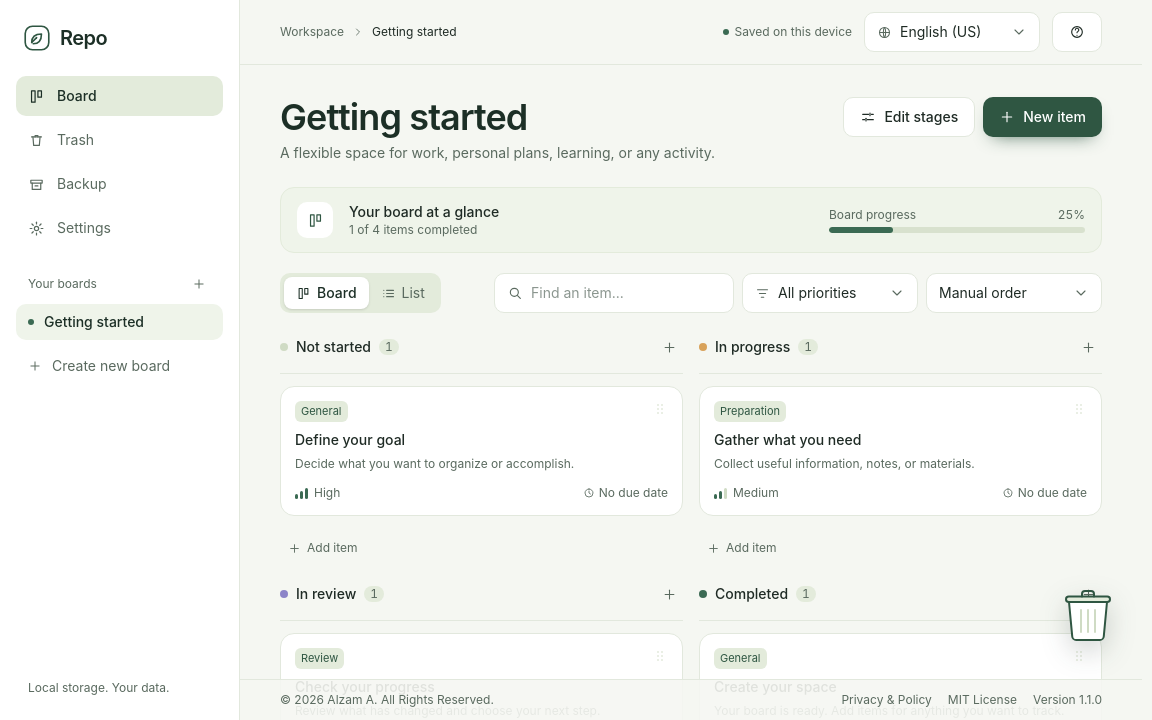
it: stages › adds a stage and deletes one, moving its items to another stage
The image size is (1152, 720).
Expected: the heading "Getting started" is shown, [280, 95, 527, 139]
Step 1. Click the button "Edit stages" → point(909, 117), box [843, 97, 975, 137]
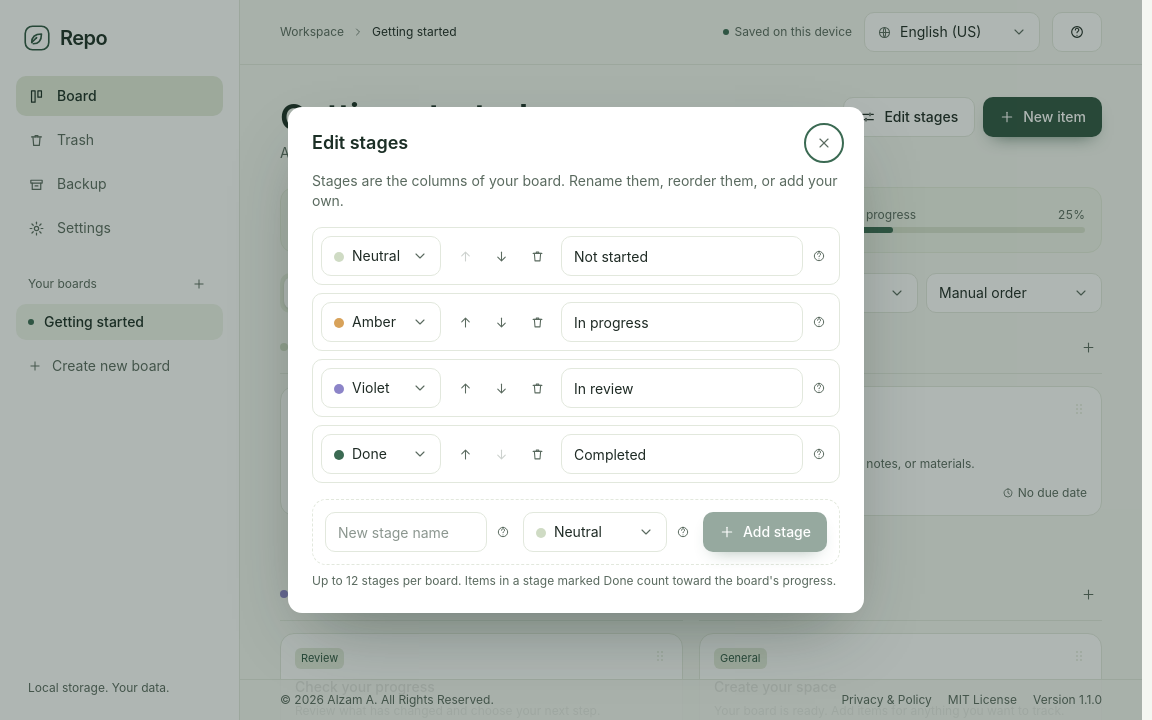
Step 2. Type "Blocked" into the field with placeholder "New stage name" → point(406, 532), box [325, 512, 487, 552]
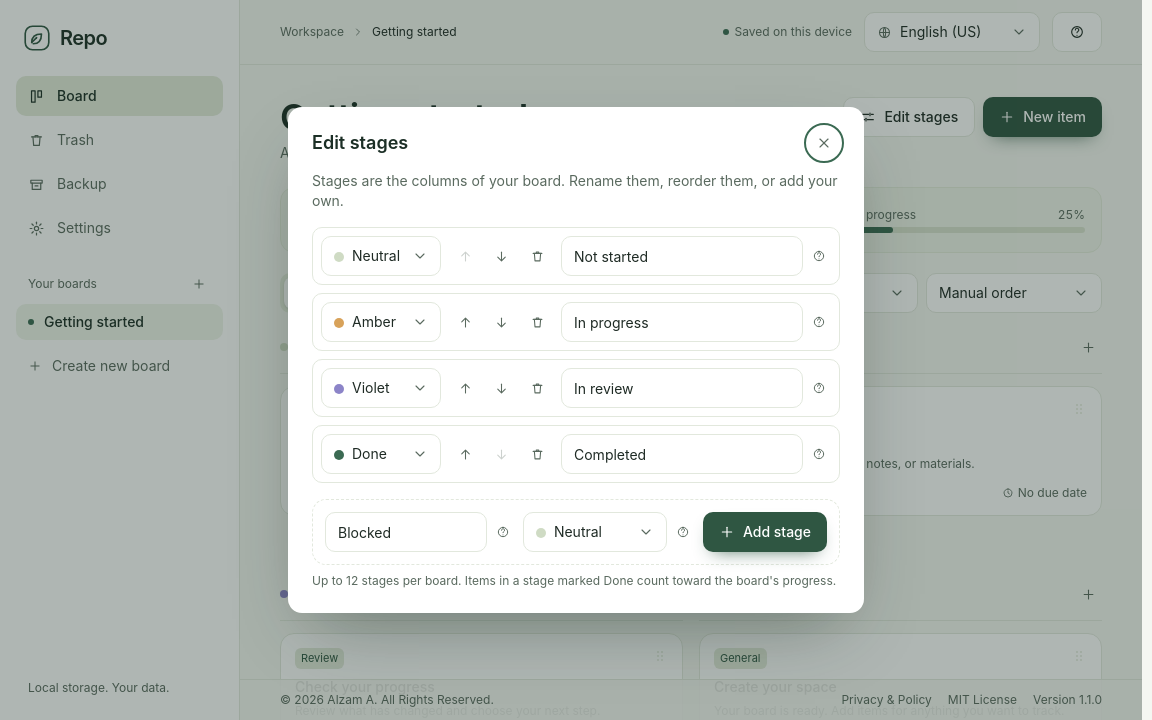
Step 3. Click the button "Add stage" → point(765, 532), box [703, 512, 827, 552]
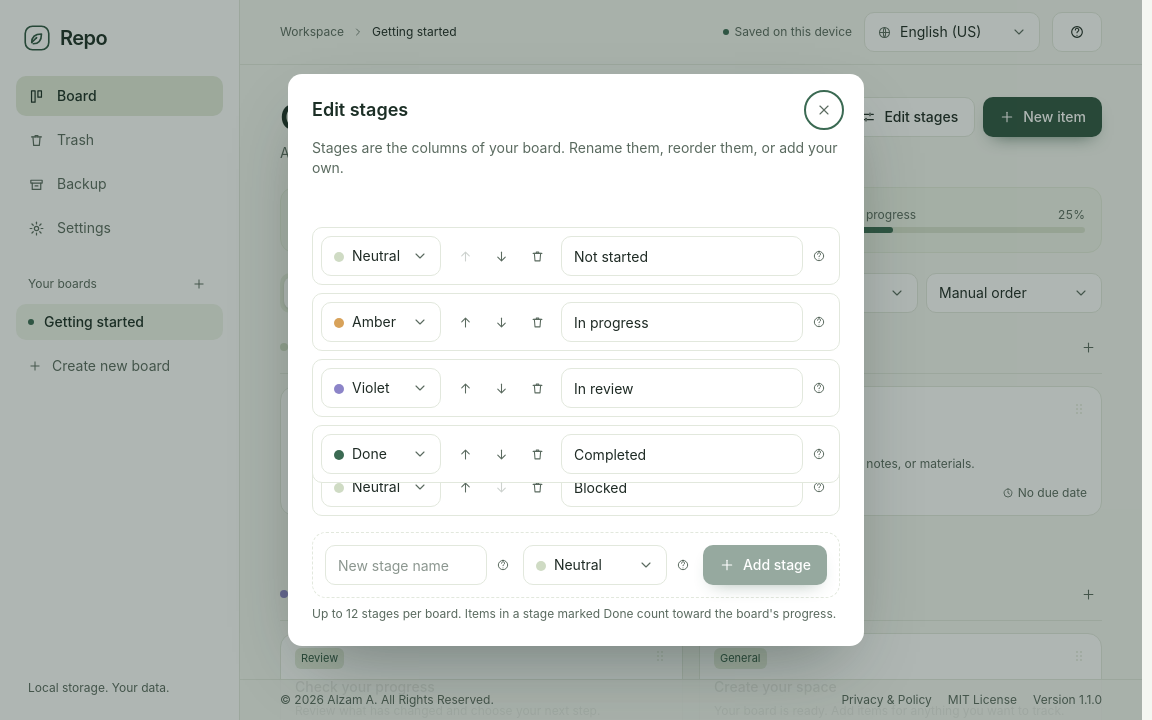
Step 4. Click the button named "Delete Not started" → point(537, 256), box [521, 240, 553, 272]
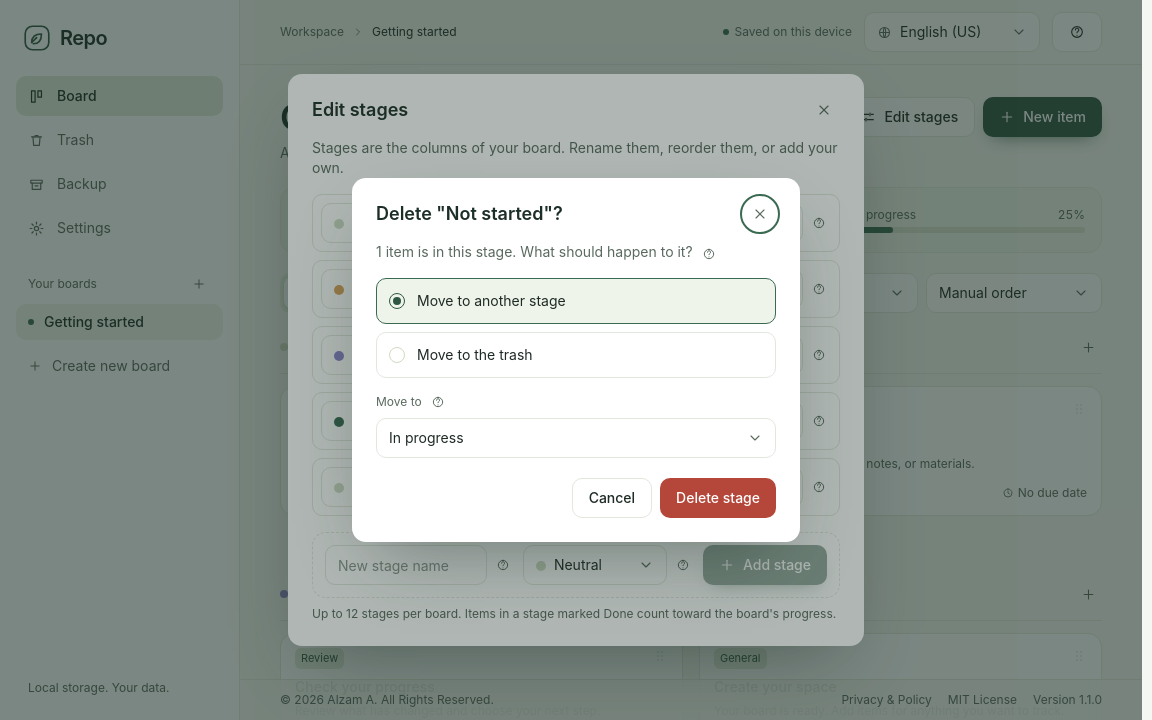
Expected: the text "1 item is in this stage. What should happen to it?" is shown, [376, 242, 693, 262]
Step 5. Click the button "Delete stage" → point(718, 498), box [660, 478, 776, 518]
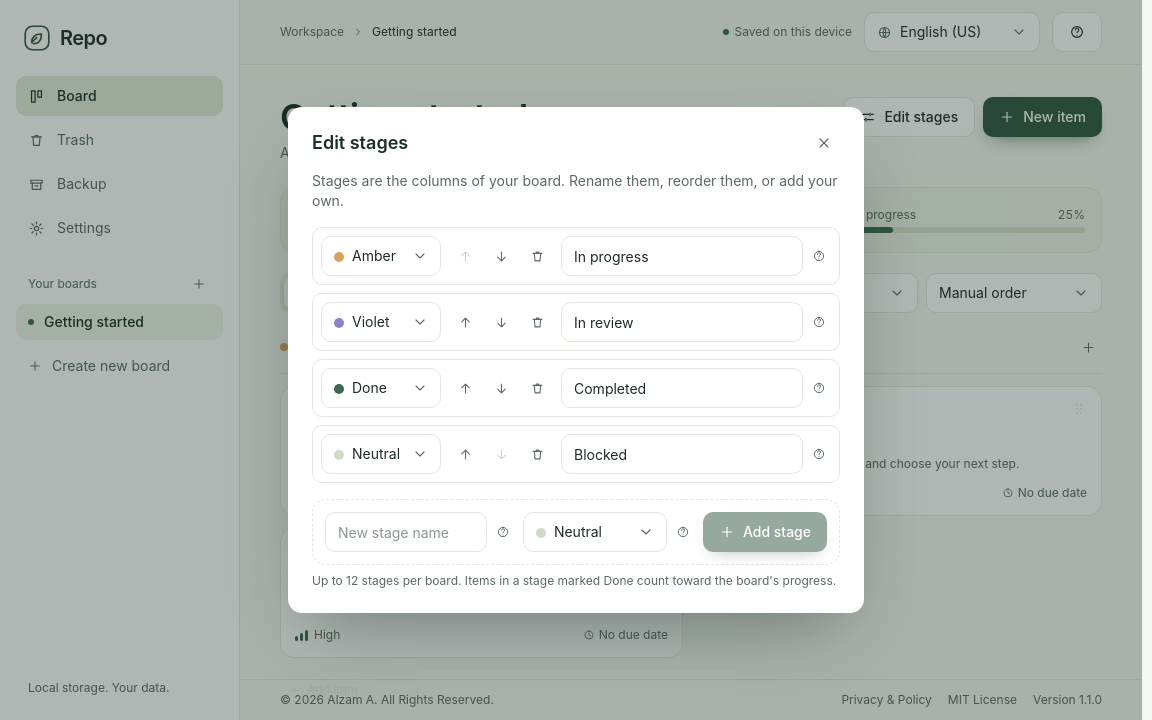
Expected: the heading "Not started" is gone
